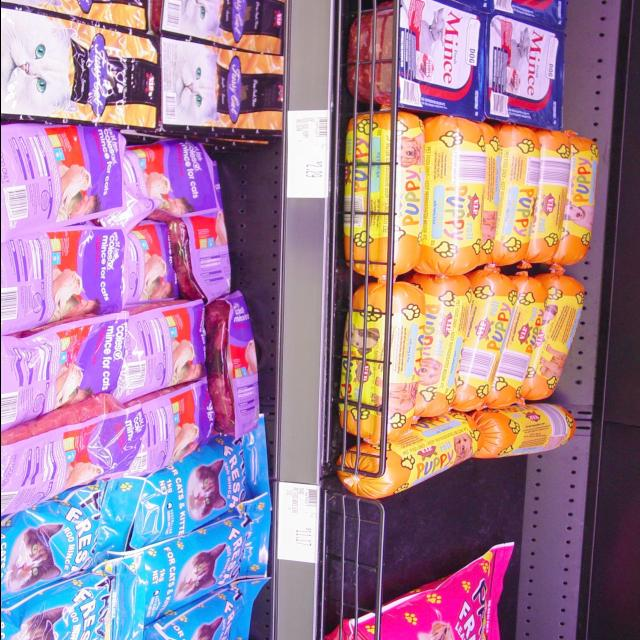empty_space: (329, 456, 531, 623)
